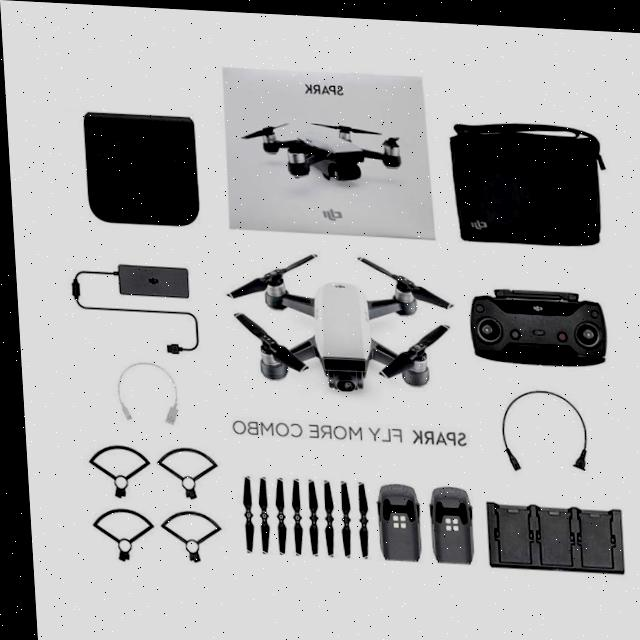drone: (209, 247, 456, 403)
